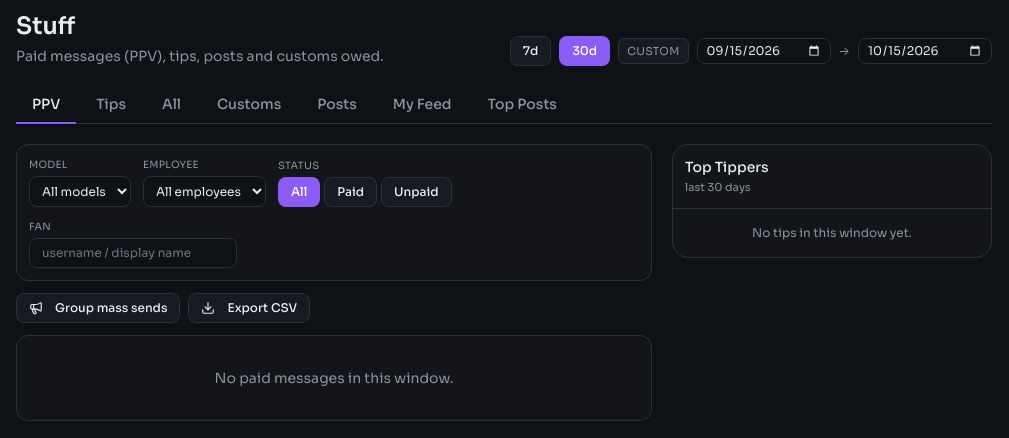
Scenario: the Stuff page › opens the owed-customs queue when the tab is clicked
Click the button "Customs" at (249, 105), box [201,86,297,124]
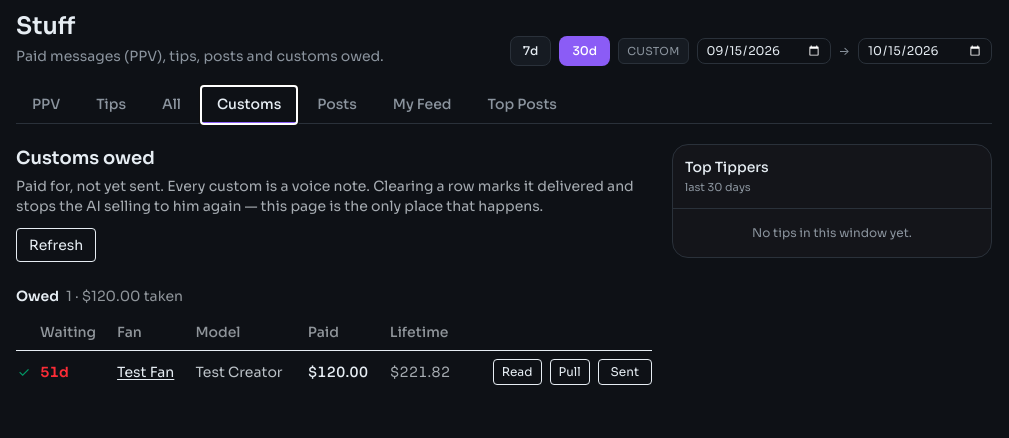
Check: the heading "Customs owed" is shown, box [16,147,155,169]
Check: the link "Test Fan" is shown, box [117,363,174,381]
